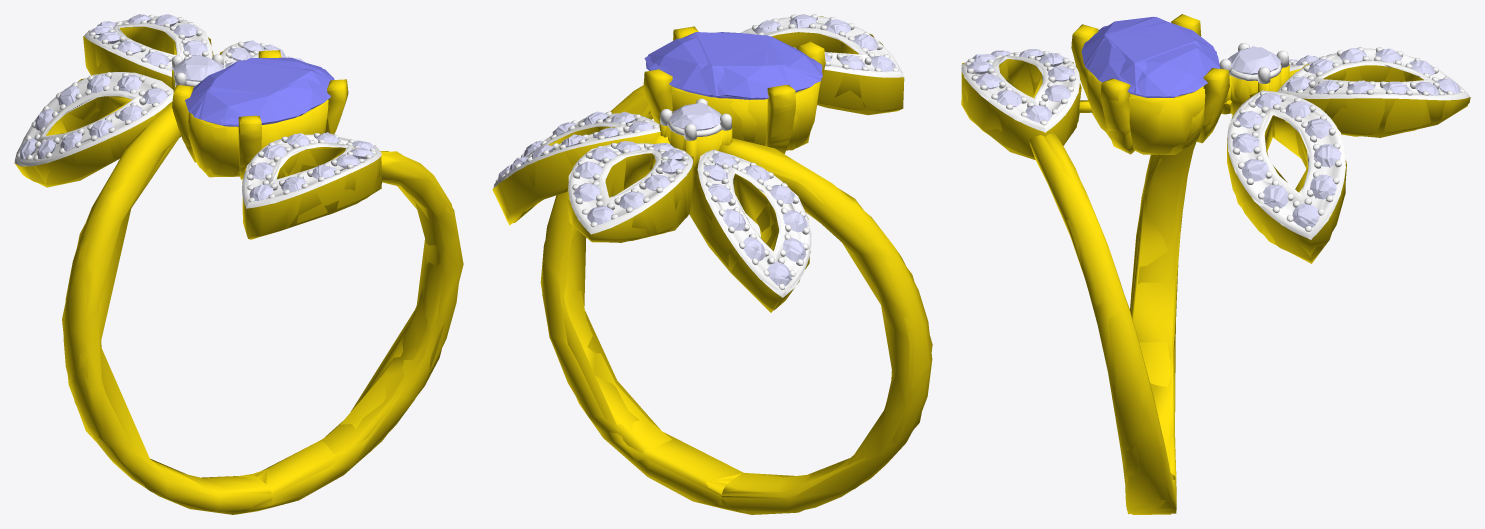
File: DLR-D000284440.glb
The picture shows the model from 3 angles, left to right: view 1: azimuth 30°, elevation 25°; view 2: azimuth 150°, elevation 25°; view 3: azimuth 270°, elevation 25°; orthographic projection. The views are drawn at different scales.
Visible parts, largest first — view 1: highPolyMesh, lowPolyMesh; view 2: highPolyMesh, lowPolyMesh; view 3: highPolyMesh, lowPolyMesh.
Part boxes in pixels (x1,y1,x2,y2): highPolyMesh: (14, 14, 460, 512); lowPolyMesh: (14, 14, 463, 514); highPolyMesh: (493, 14, 932, 513); lowPolyMesh: (492, 14, 932, 514); highPolyMesh: (961, 14, 1470, 514); lowPolyMesh: (961, 14, 1470, 514).
Bounding box in the file's own units: 0.0196 × 0.0215 × 0.0219.
